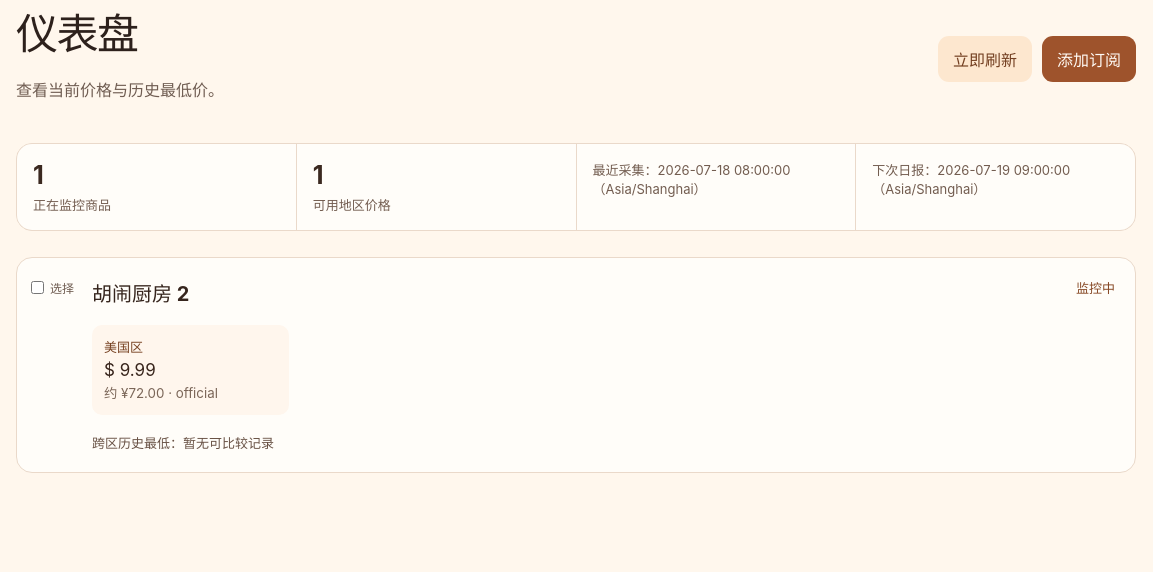
it: 仪表盘订阅硬删除 › selects a subscription without navigating and exposes the confirmed-delete action
The width and height of the screenshot is (1153, 572).
What coordinates should you click on to do the following:
click the checkbox named "选择 胡闹厨房 2"
I would click on:
 (38, 288)
Its box is x1=31 y1=281 x2=44 y2=294.
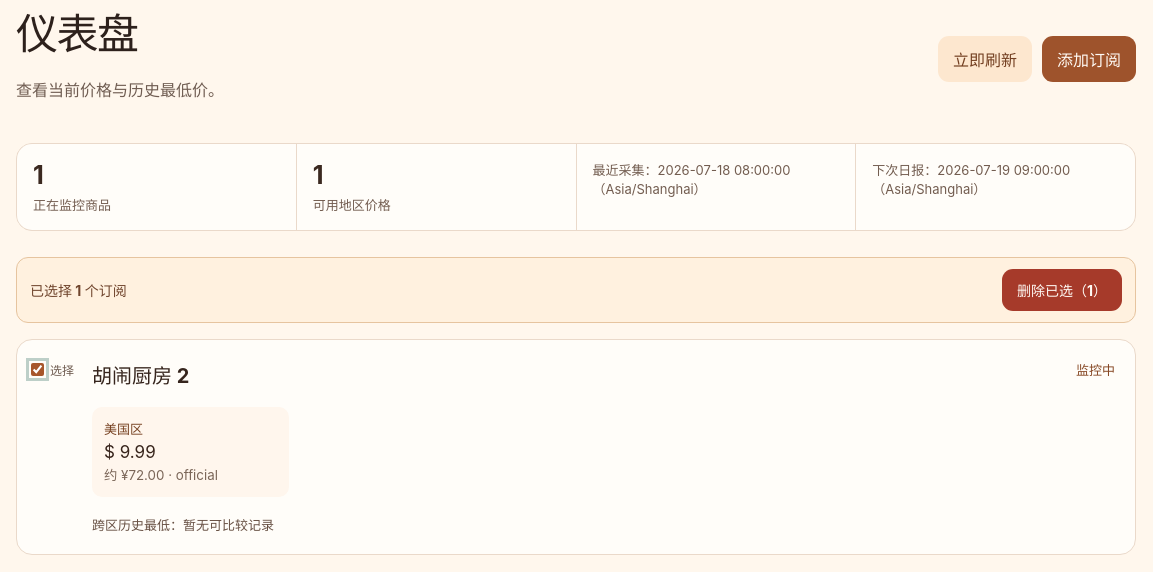
Check: the button "删除已选（1）" is enabled, box x1=1002 y1=269 x2=1122 y2=311
